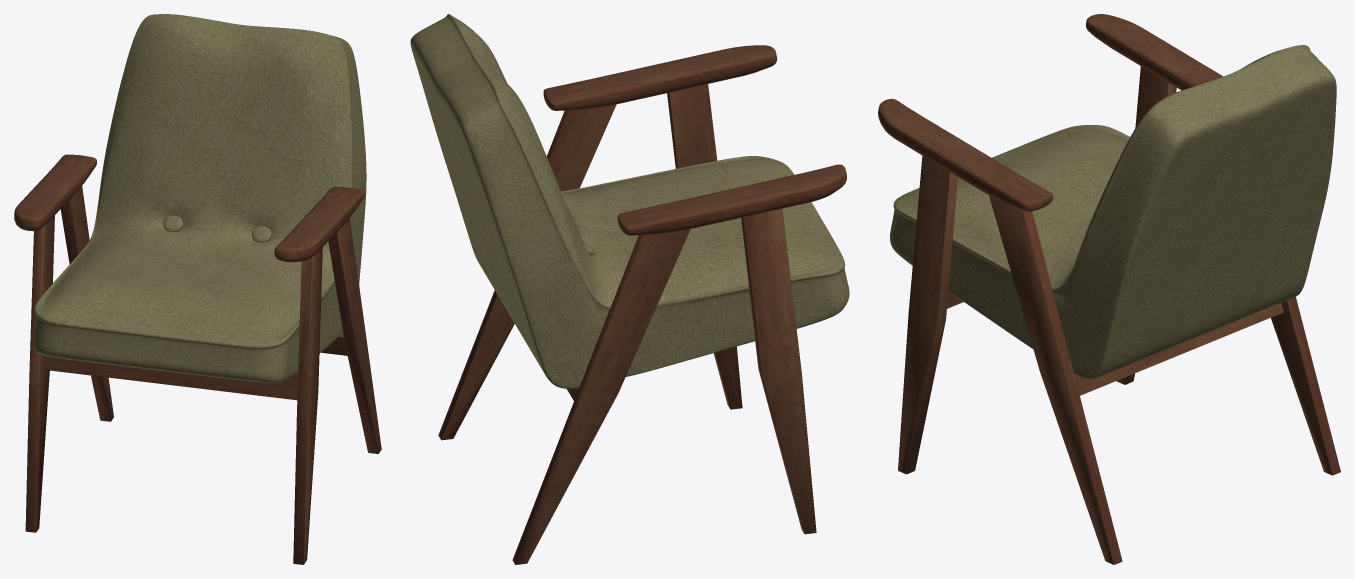
Rendered from office-lounge.glb.
3 views of the same model, side by side, from view 1: azimuth 30°, elevation 25°; view 2: azimuth 150°, elevation 25°; view 3: azimuth 270°, elevation 25° (orthographic). The views are drawn at different scales.
Parts seen in each view (by area): view 1: Object_6, Object_4; view 2: Object_6, Object_4; view 3: Object_6, Object_4.
Boxes of the visible parts, x1,y1,x2,y2 form: Object_6: [33, 14, 366, 382]; Object_4: [14, 154, 381, 564]; Object_6: [410, 14, 849, 388]; Object_4: [438, 45, 846, 564]; Object_6: [890, 45, 1336, 379]; Object_4: [878, 14, 1340, 564].
Bounding box in the file's own units: 0.7179 × 0.765 × 0.717.
2 materials, 2 textured.
